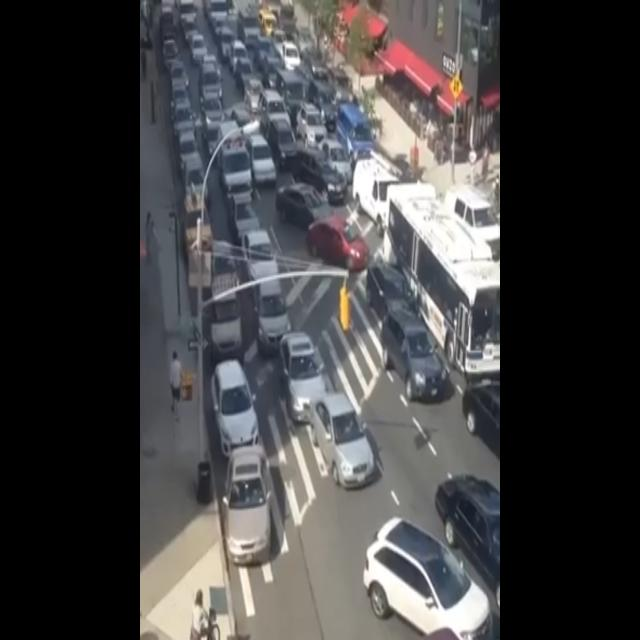Ambulance: (211, 111, 255, 208)
